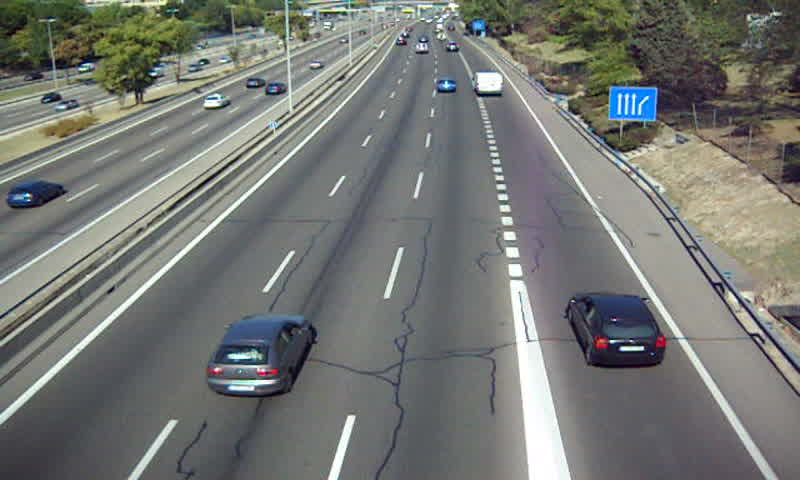car: (204, 315, 311, 396), (567, 292, 668, 366), (435, 78, 456, 94)
van: (475, 72, 503, 97)
